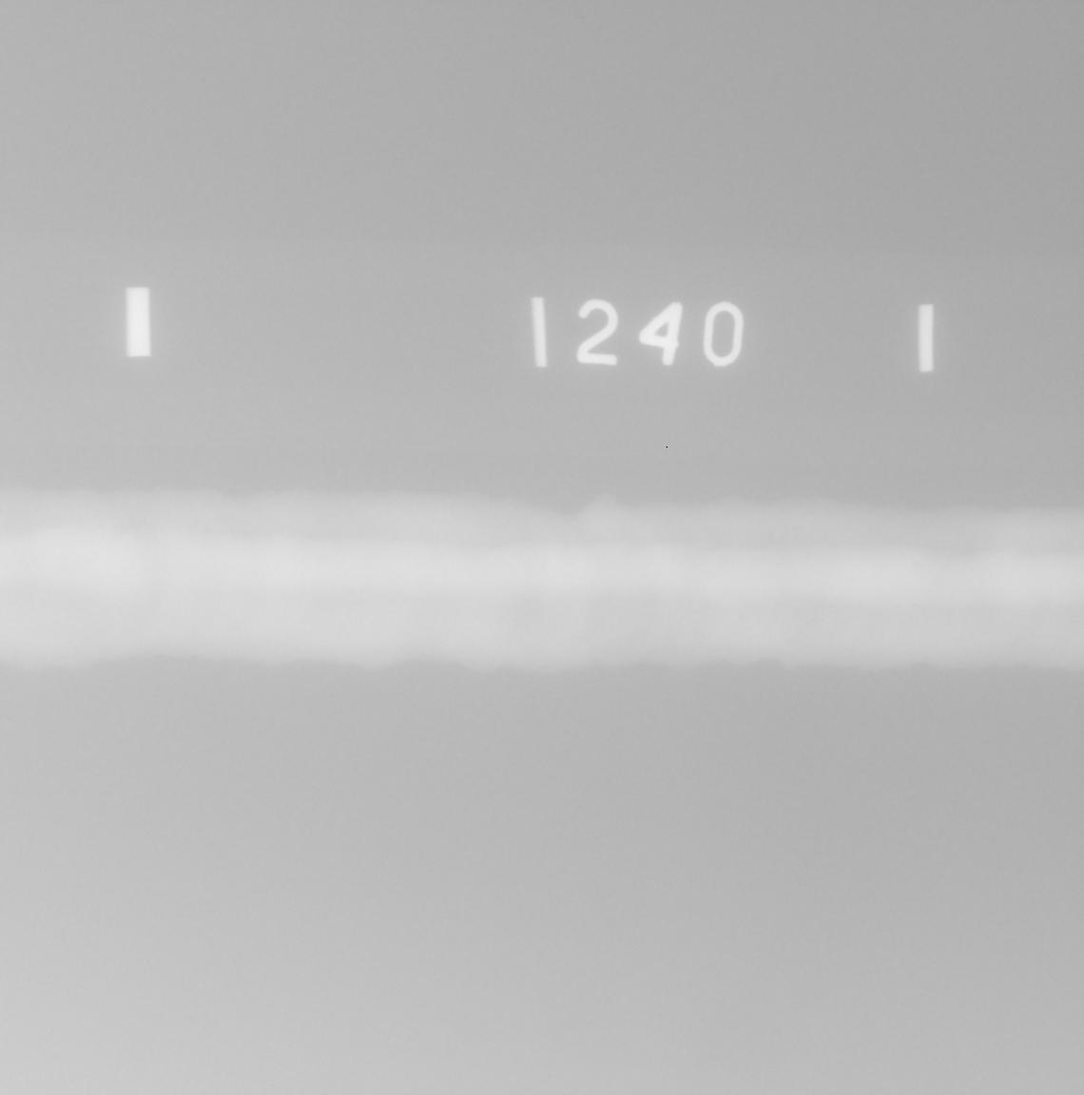Pore/Porosity: (913, 561, 919, 566), (348, 590, 353, 595), (912, 603, 916, 606)
